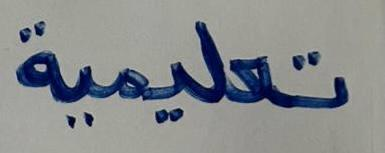ain: (229, 17, 282, 115)
lam: (194, 10, 227, 117)
meem: (104, 42, 149, 125)
teh: (286, 23, 363, 139)
teh_marbota: (5, 12, 60, 108)
yeh: (151, 28, 190, 127), (61, 49, 102, 132)
